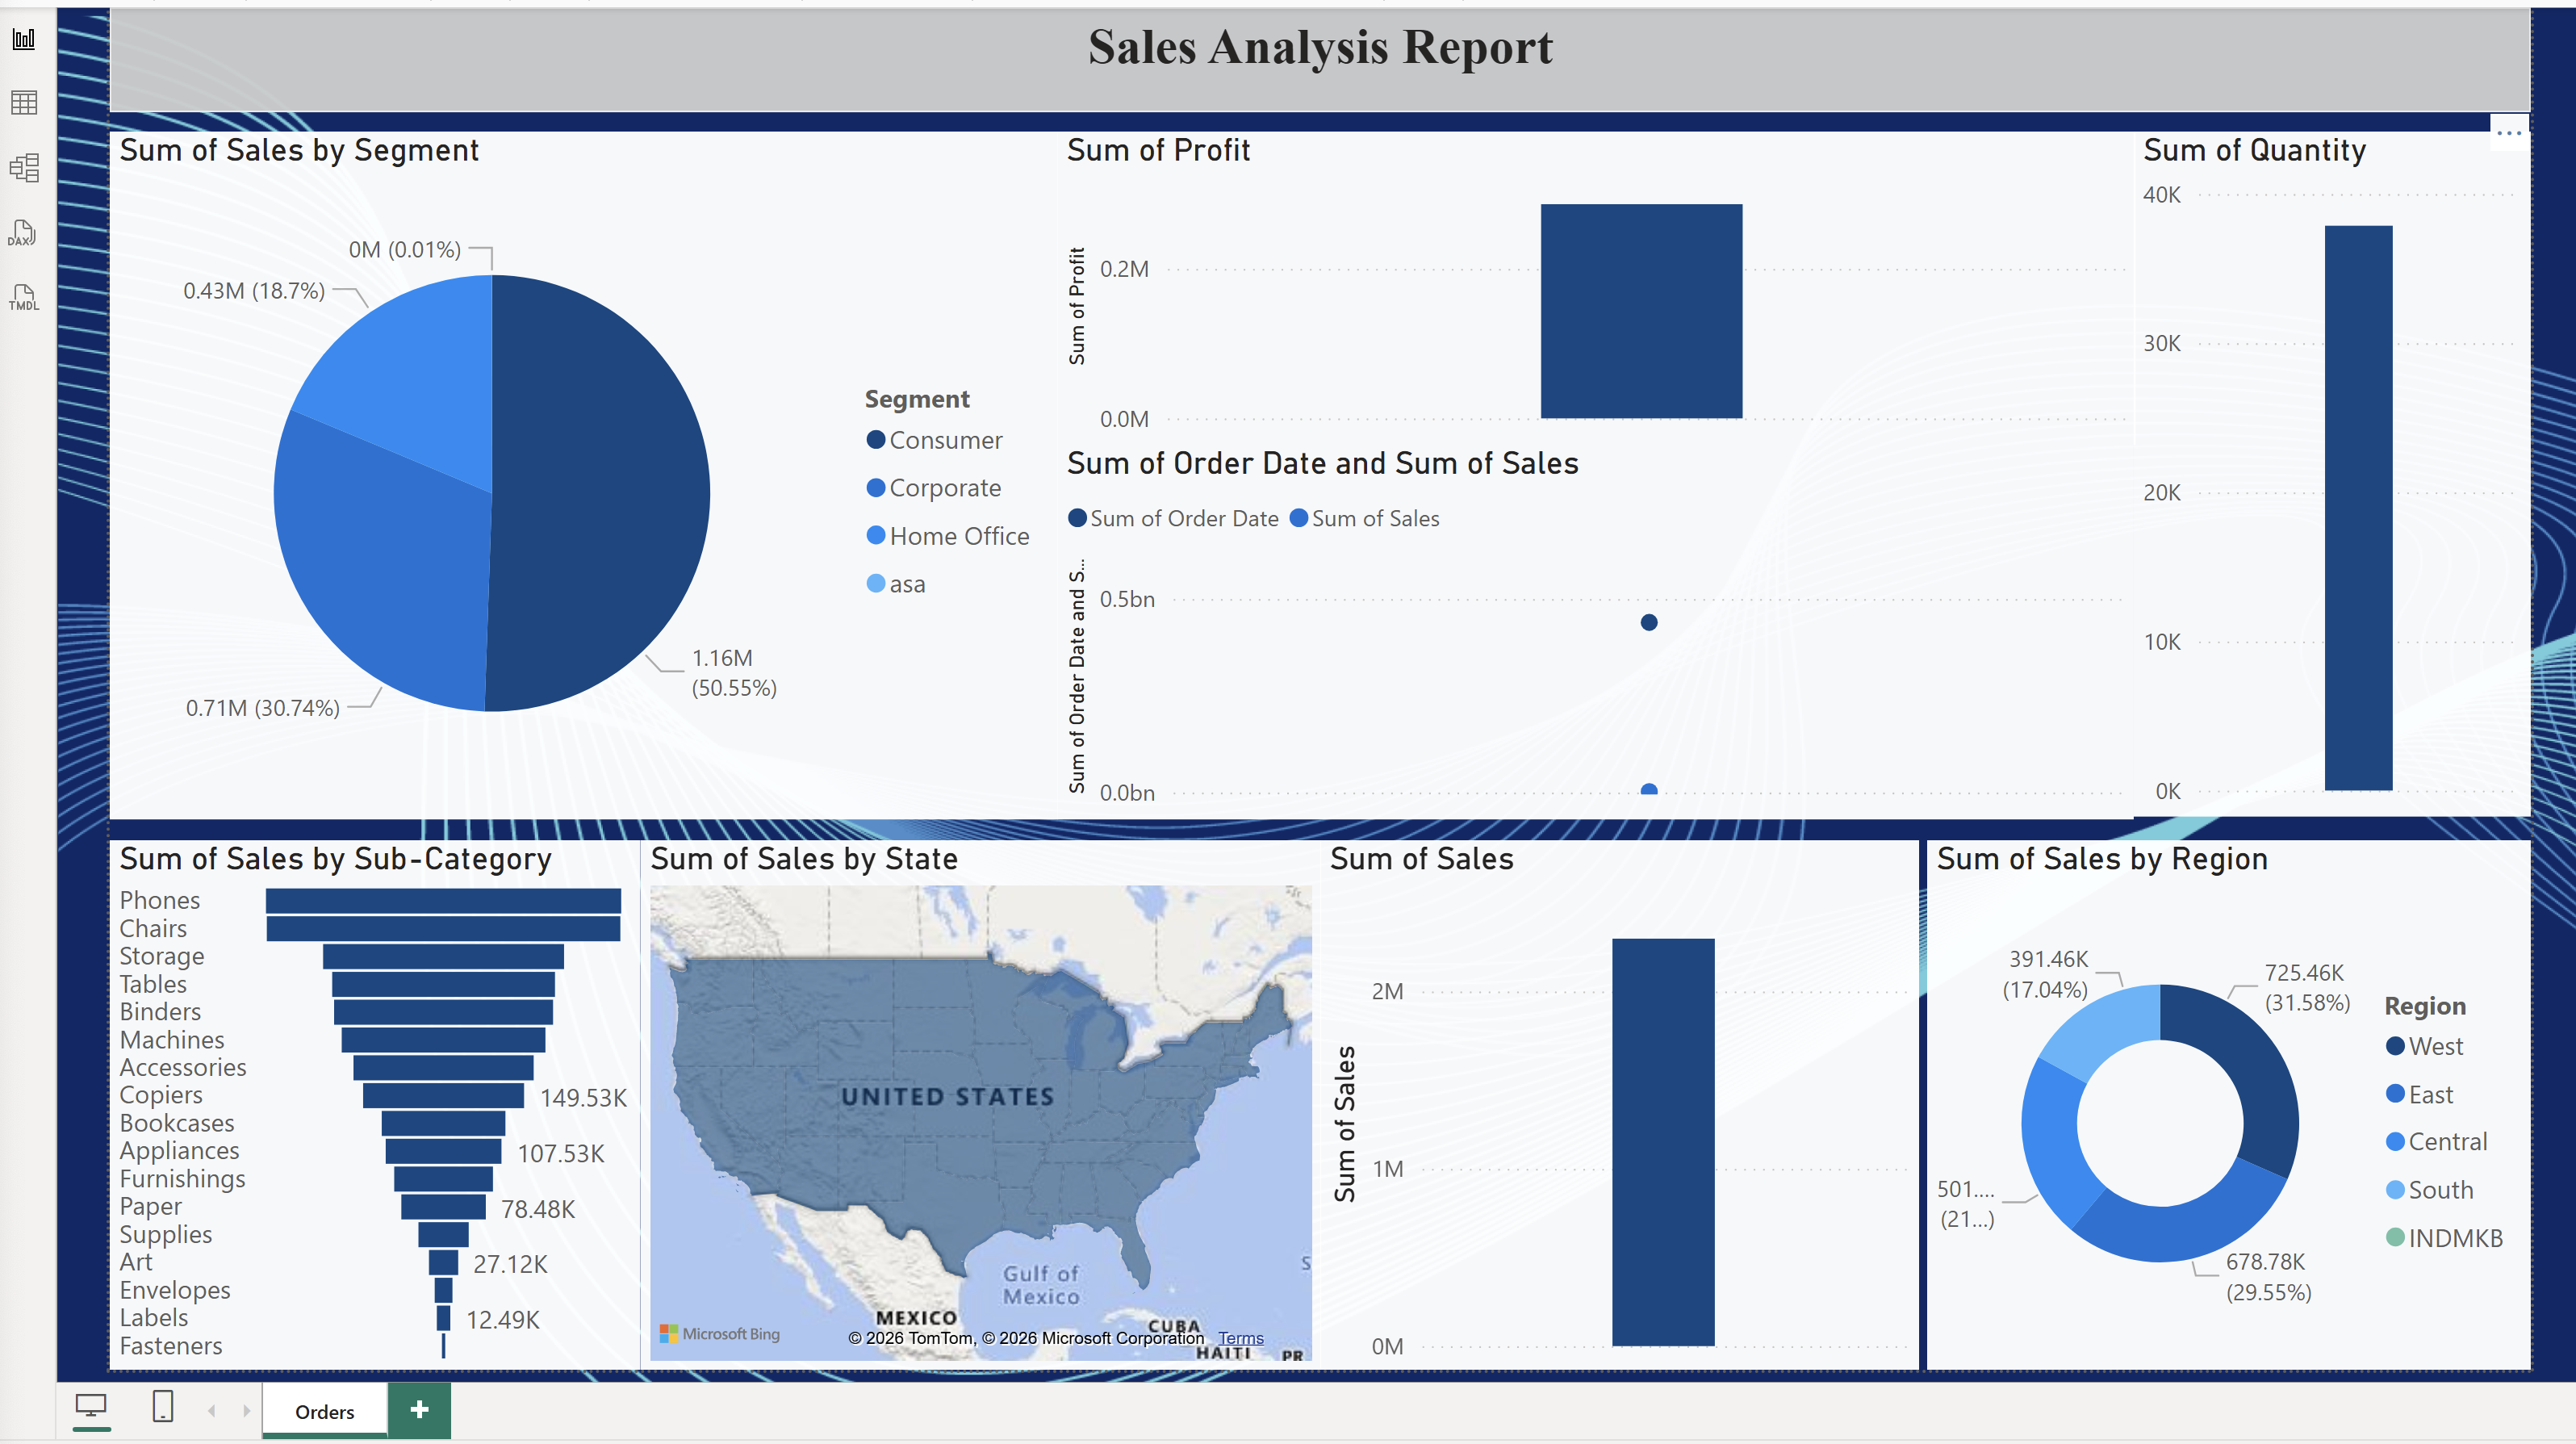

Layout of this report page (visuals, bound fields, positions):
{"tool":"powerbi","page":{"name":"Orders","canvas":[1280,720],"ordinal":0},"visuals":[{"type":"donutChart","fields":{"Category":["Orders.Region"],"Y":["Sum(Orders.Sales)"]},"box":[960.5,440.1,319.5,280.3],"z":0},{"type":"funnel","fields":{"Category":["Orders.Sub-Category"],"Y":["Sum(Orders.Sales)"]},"box":[0,440.1,280.3,280.3],"z":1000},{"type":"filledMap","fields":{"Category":["Orders.State"]},"box":[280.3,440.1,359.7,280.3],"z":2000},{"type":"pieChart","fields":{"Category":["Orders.Segment"],"Y":["Sum(Orders.Sales)"]},"box":[0,65.6,501.1,363.3],"z":2001},{"type":"lineChart","fields":{"Y":["Sum(Orders.Order Date)","Sum(Orders.Sales)"]},"box":[501.1,231.1,568.9,197.8],"z":2002},{"type":"clusteredColumnChart","fields":{"Y":["Sum(Orders.Sales)"]},"box":[640,440.1,316.5,281.3],"z":2003},{"type":"clusteredColumnChart","fields":{"Y":["Sum(Orders.Profit)"]},"box":[501.1,65.6,570,165.6],"z":2004},{"type":"clusteredColumnChart","fields":{"Y":["Sum(Orders.Quantity)"]},"box":[1070,65.6,210,362.2],"z":2005},{"type":"textbox","box":[0,0,1280,55.3],"z":2006}]}

Visuals, with their boxes in screenshot pixels (x1, y1, x2, y2):
donutChart - Orders.Region x Sum(Orders.Sales): 1924 832 2533 1367
funnel - Orders.Sub-Category x Sum(Orders.Sales): 94 832 628 1367
filledMap - Orders.State: 628 832 1313 1367
pieChart - Orders.Segment x Sum(Orders.Sales): 94 119 1049 810
lineChart - Sum(Orders.Order Date) x Sum(Orders.Sales): 1049 433 2133 810
clusteredColumnChart - Sum(Orders.Sales): 1313 832 1917 1368
clusteredColumnChart - Sum(Orders.Profit): 1049 119 2135 434
clusteredColumnChart - Sum(Orders.Quantity): 2133 119 2533 809
textbox: 94 0 2533 98
